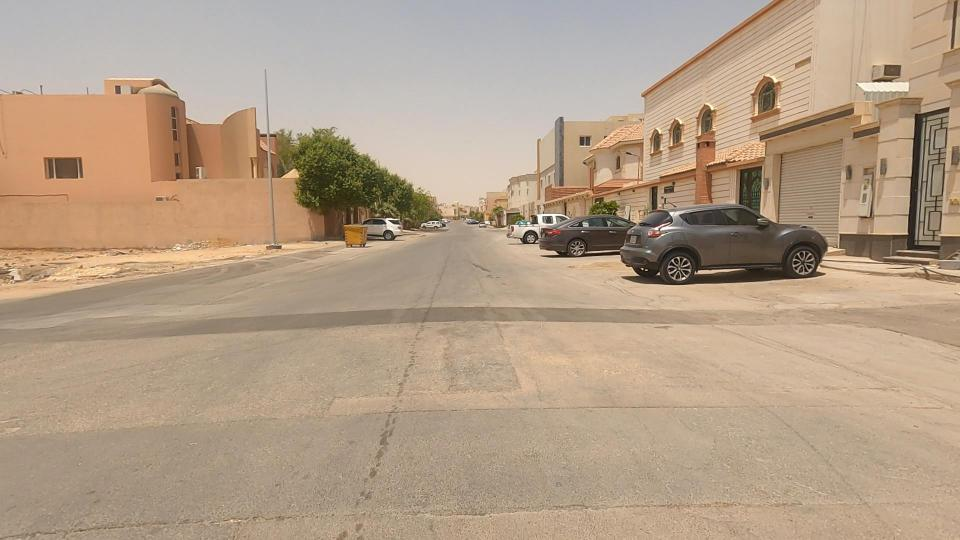GARBAGE: (0, 243, 76, 307), (139, 217, 222, 275)
